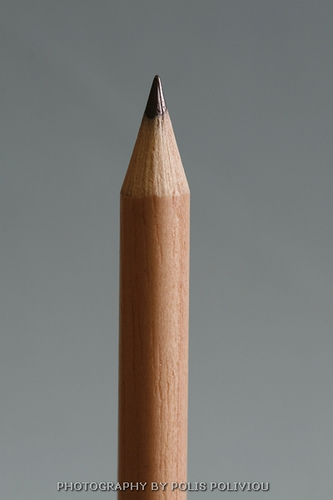pen_tip: (118, 68, 200, 243)
